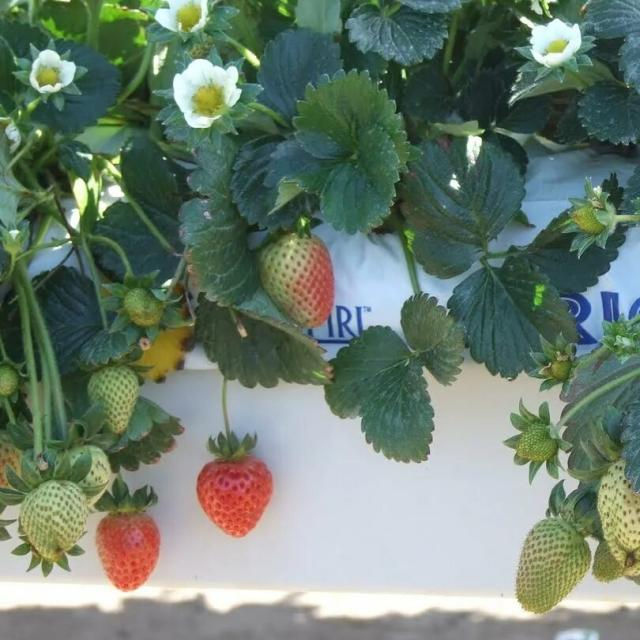Ripe Strawberry: (196, 459, 273, 537), (96, 510, 162, 589)
